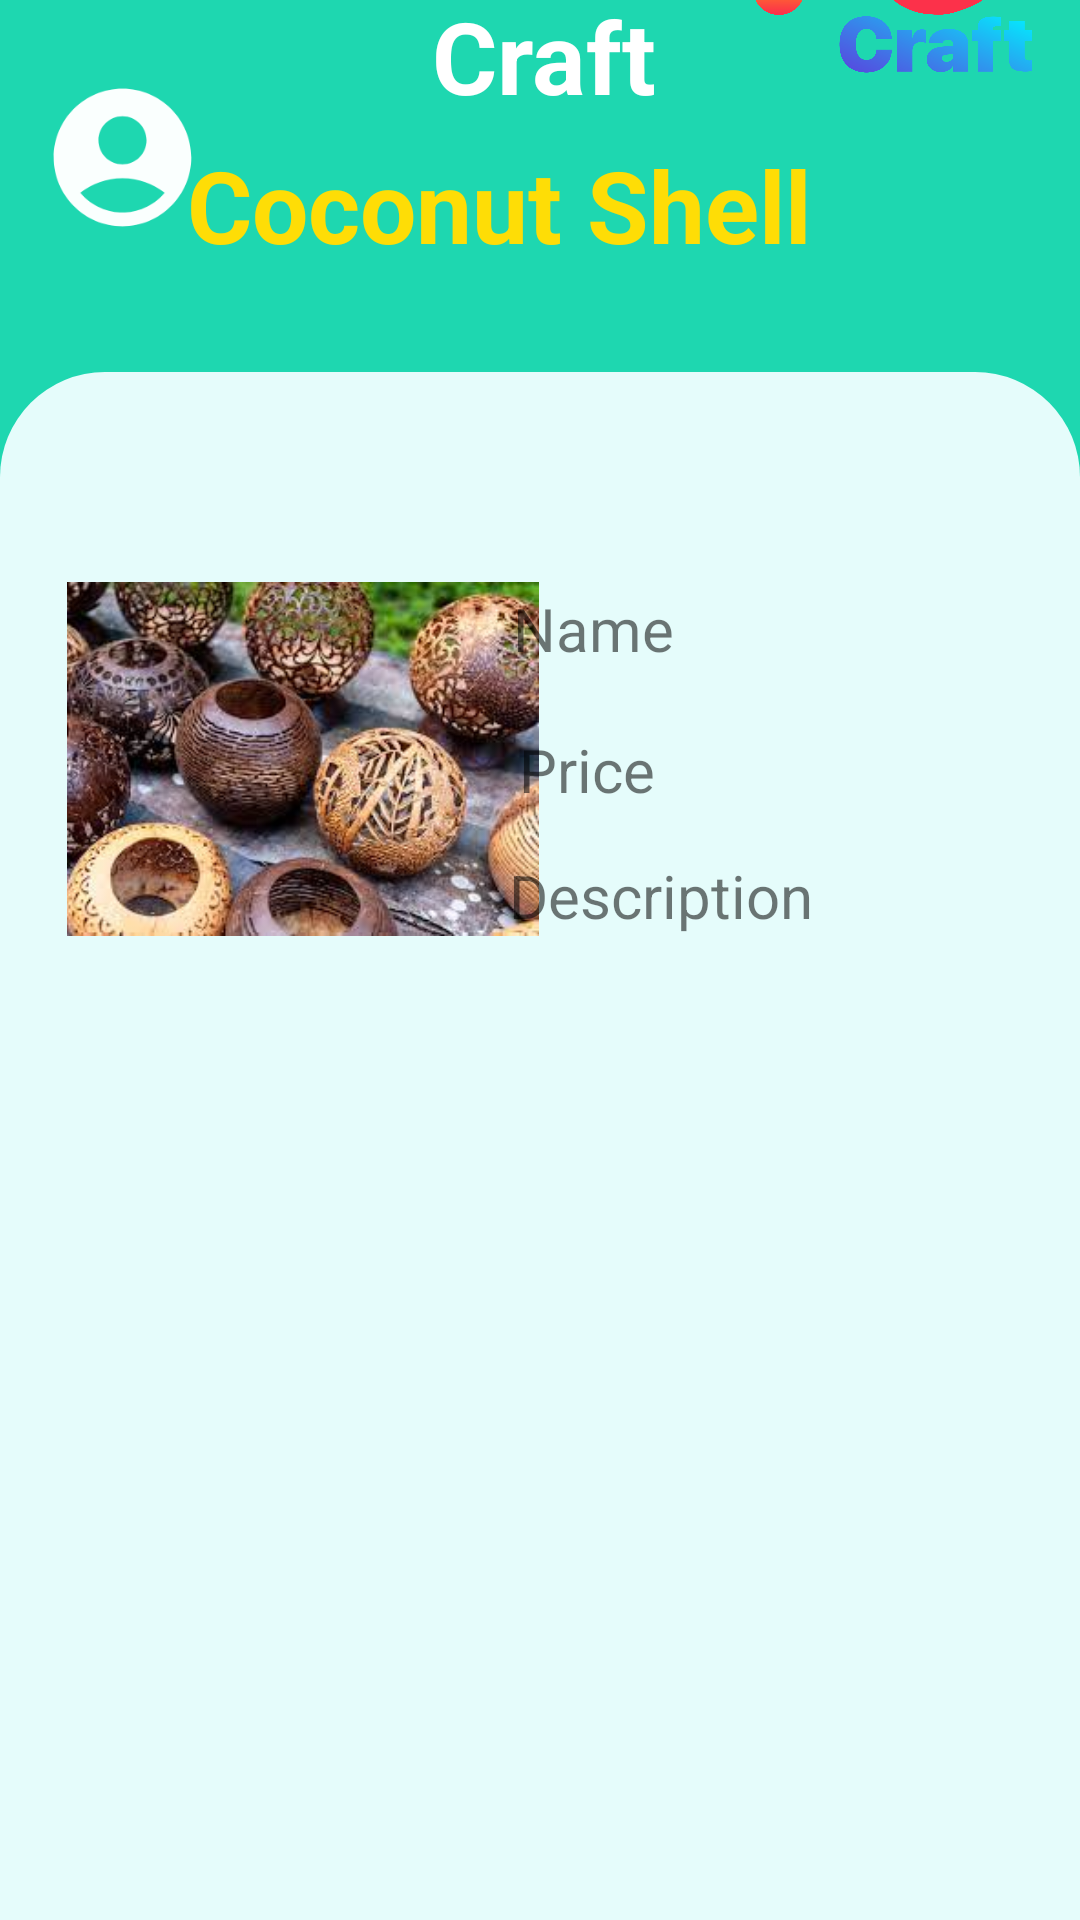

Named icons in this screenshot (1080×1920) and their bounding boxes, box=[x1, y1, x2, y2]:
user profile: box=[53, 88, 192, 227]
